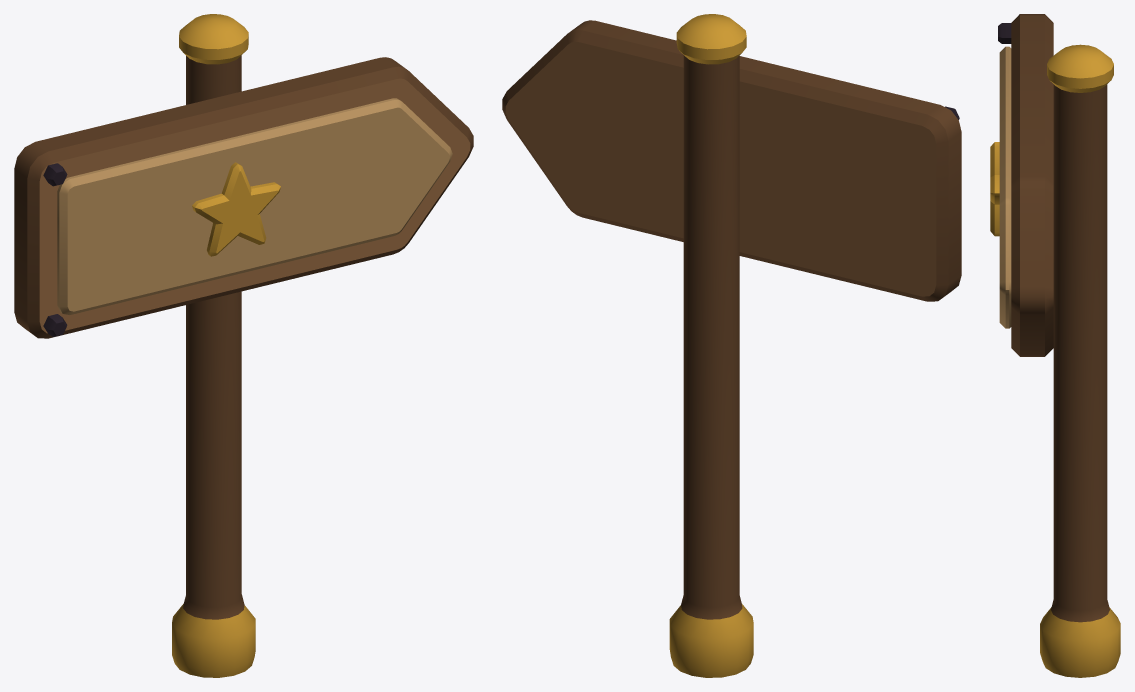
The model's file is Sign_17.glb.
3 views of the same model, side by side, from view 1: azimuth 30°, elevation 25°; view 2: azimuth 150°, elevation 25°; view 3: azimuth 270°, elevation 25° (orthographic). The views are drawn at different scales.
Parts seen in each view (by area): view 1: Sign_17; view 2: Sign_17; view 3: Sign_17.
Part boxes in pixels (x1,y1,x2,y2): Sign_17: [14, 14, 473, 677]; Sign_17: [502, 14, 961, 677]; Sign_17: [990, 14, 1120, 677].
Bounding box in the file's own units: 2.56 × 3.51 × 0.68.
